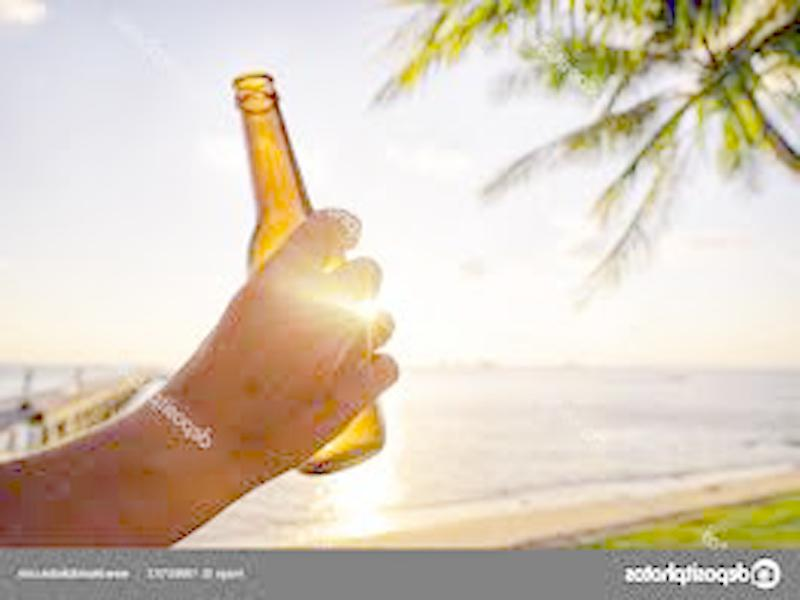Beer: (230, 72, 385, 475)
